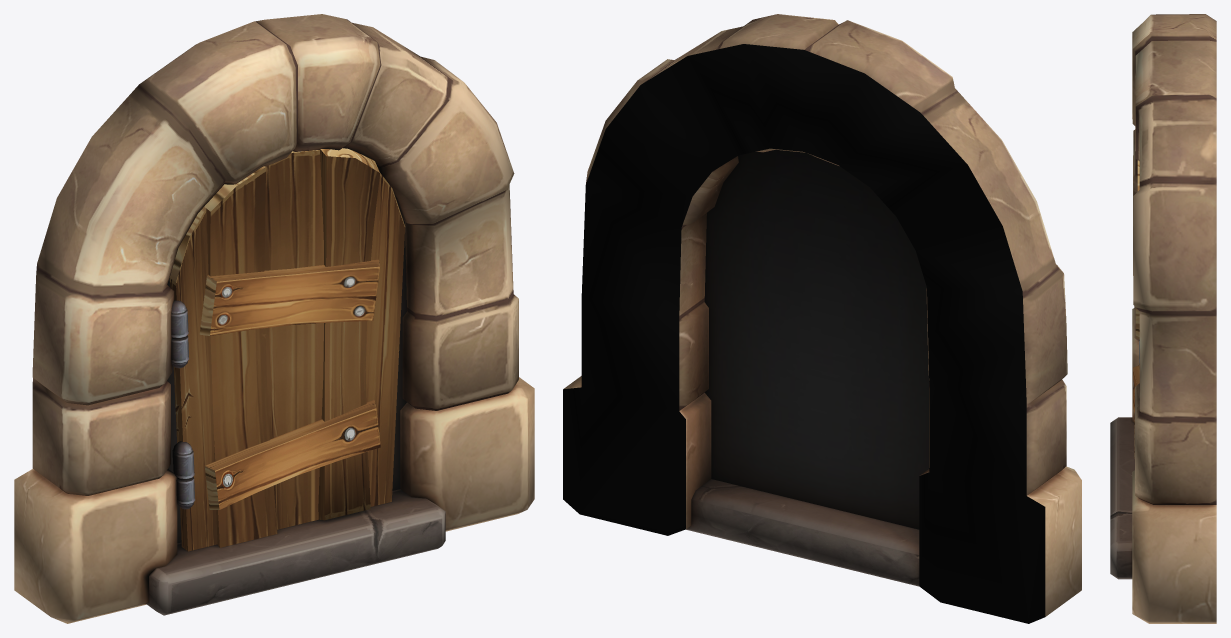
The model's file is DE_House_Mod_Part_24.fbx.
3 renders of one model, left to right at view 1: azimuth 30°, elevation 25°; view 2: azimuth 150°, elevation 25°; view 3: azimuth 270°, elevation 25°, orthographic. The views are drawn at different scales.
Visible parts, largest first — view 1: DE_House_Mod_Part_24; view 2: DE_House_Mod_Part_24; view 3: DE_House_Mod_Part_24.
Part boxes in pixels (left/top/right/bottom): DE_House_Mod_Part_24: left=14, top=14, right=534, bottom=623; DE_House_Mod_Part_24: left=563, top=14, right=1081, bottom=623; DE_House_Mod_Part_24: left=1110, top=14, right=1216, bottom=623.
Bounding box in the file's own units: 2.81 × 2.93 × 0.5814.
